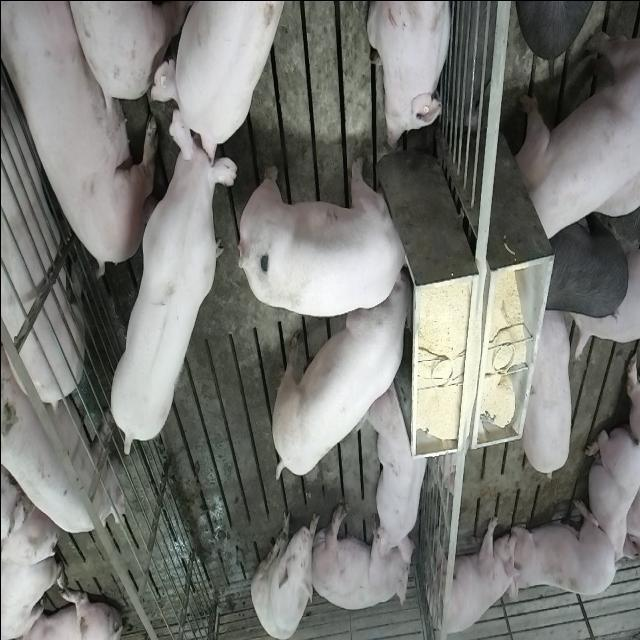Feeding: (266, 272, 411, 480), (242, 154, 416, 317)
Lateral_lying: (4, 0, 158, 273), (308, 499, 415, 612)
Sitting: (250, 502, 314, 638)
Standing: (109, 102, 237, 454), (0, 57, 87, 416), (514, 13, 638, 247), (0, 344, 122, 538), (146, 0, 284, 155), (429, 509, 519, 635), (522, 310, 576, 481), (543, 216, 631, 318)
Sternal_lying: (365, 0, 453, 151), (366, 380, 431, 562), (512, 500, 616, 604), (585, 426, 639, 572)
